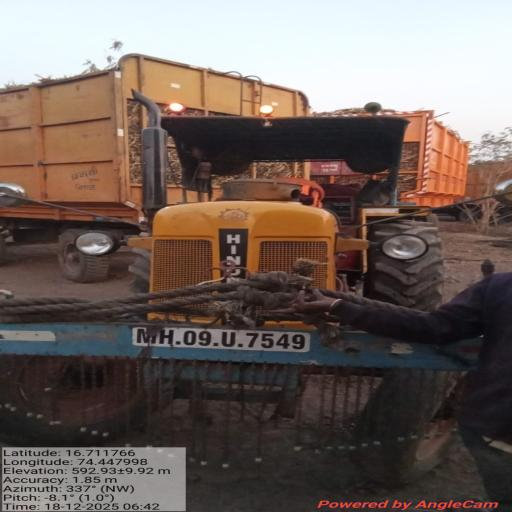number_plate: (132, 328, 310, 352)
